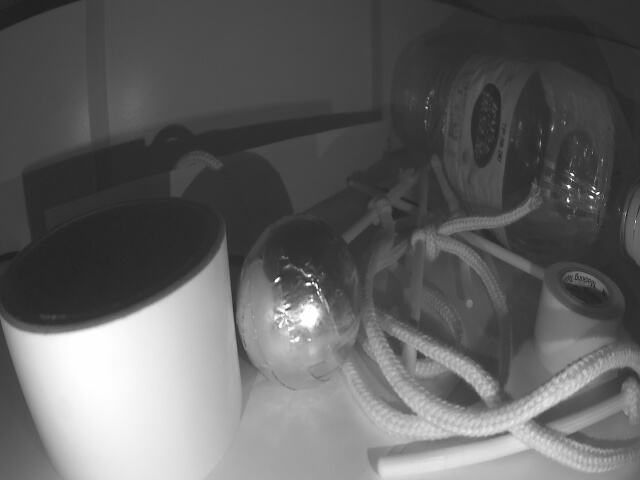Live: (233, 217, 363, 392)
